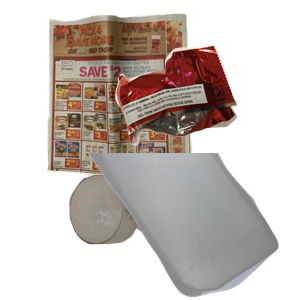glass: (67, 172, 229, 300)
paper: (44, 11, 229, 181)
plastic: (84, 153, 300, 300)
trash: (113, 43, 300, 181)
